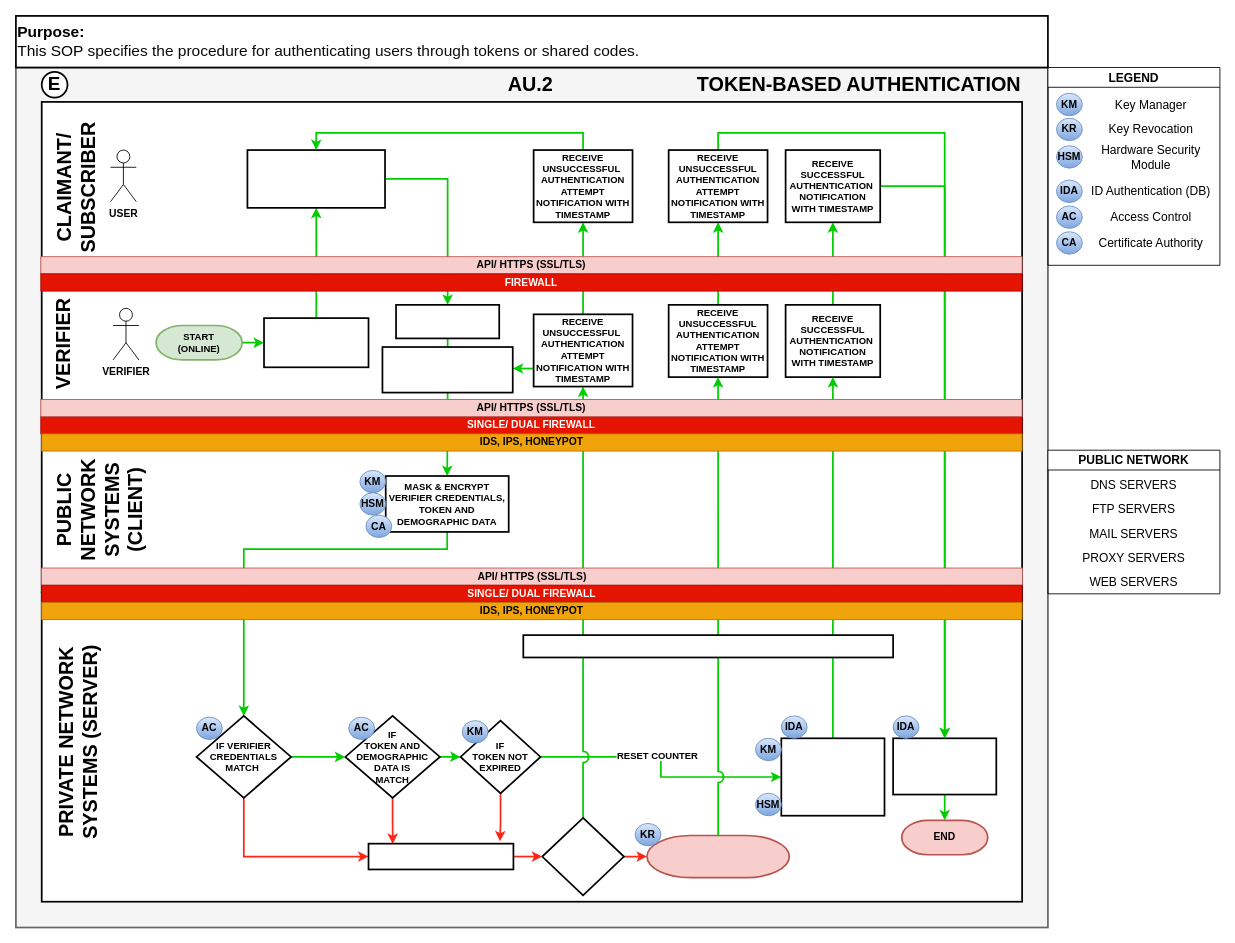
This 1235x943 diagram has some shape labels left out. Each missing label, with the centre of its shape:
EXCEPTION AND ERROR HANDLING (COUNTER): (440,856)
IF RETRY COUNT <=3: (582,856)
LOGS THE PROCESS AND STATUS: (944,766)
NOTIFICATION GENERATOR: (708,646)
PROVIDE GENERATED TOKEN AND DEMOGRAPHIC DATA AU.2.D: (315,178)
RECEIVE TOKEN AND DEMOGRAPHIC DATA: (447,321)
REQUEST TOKEN FOR AUTHENTICATION: (316,342)
SEND TOKEN, DEMO. DETAILS, AND VERIFIER CREDENTIALS FOR AUTHENTICATION: (447,369)
STORE SUCCESSFUL TOKEN AUTHENTICATION STATUS IN UIN ACCOUNT: (832,776)
TERMINATE PROCESS: RECORD TIMESTAMP AND ATTEMPT: (718,856)
